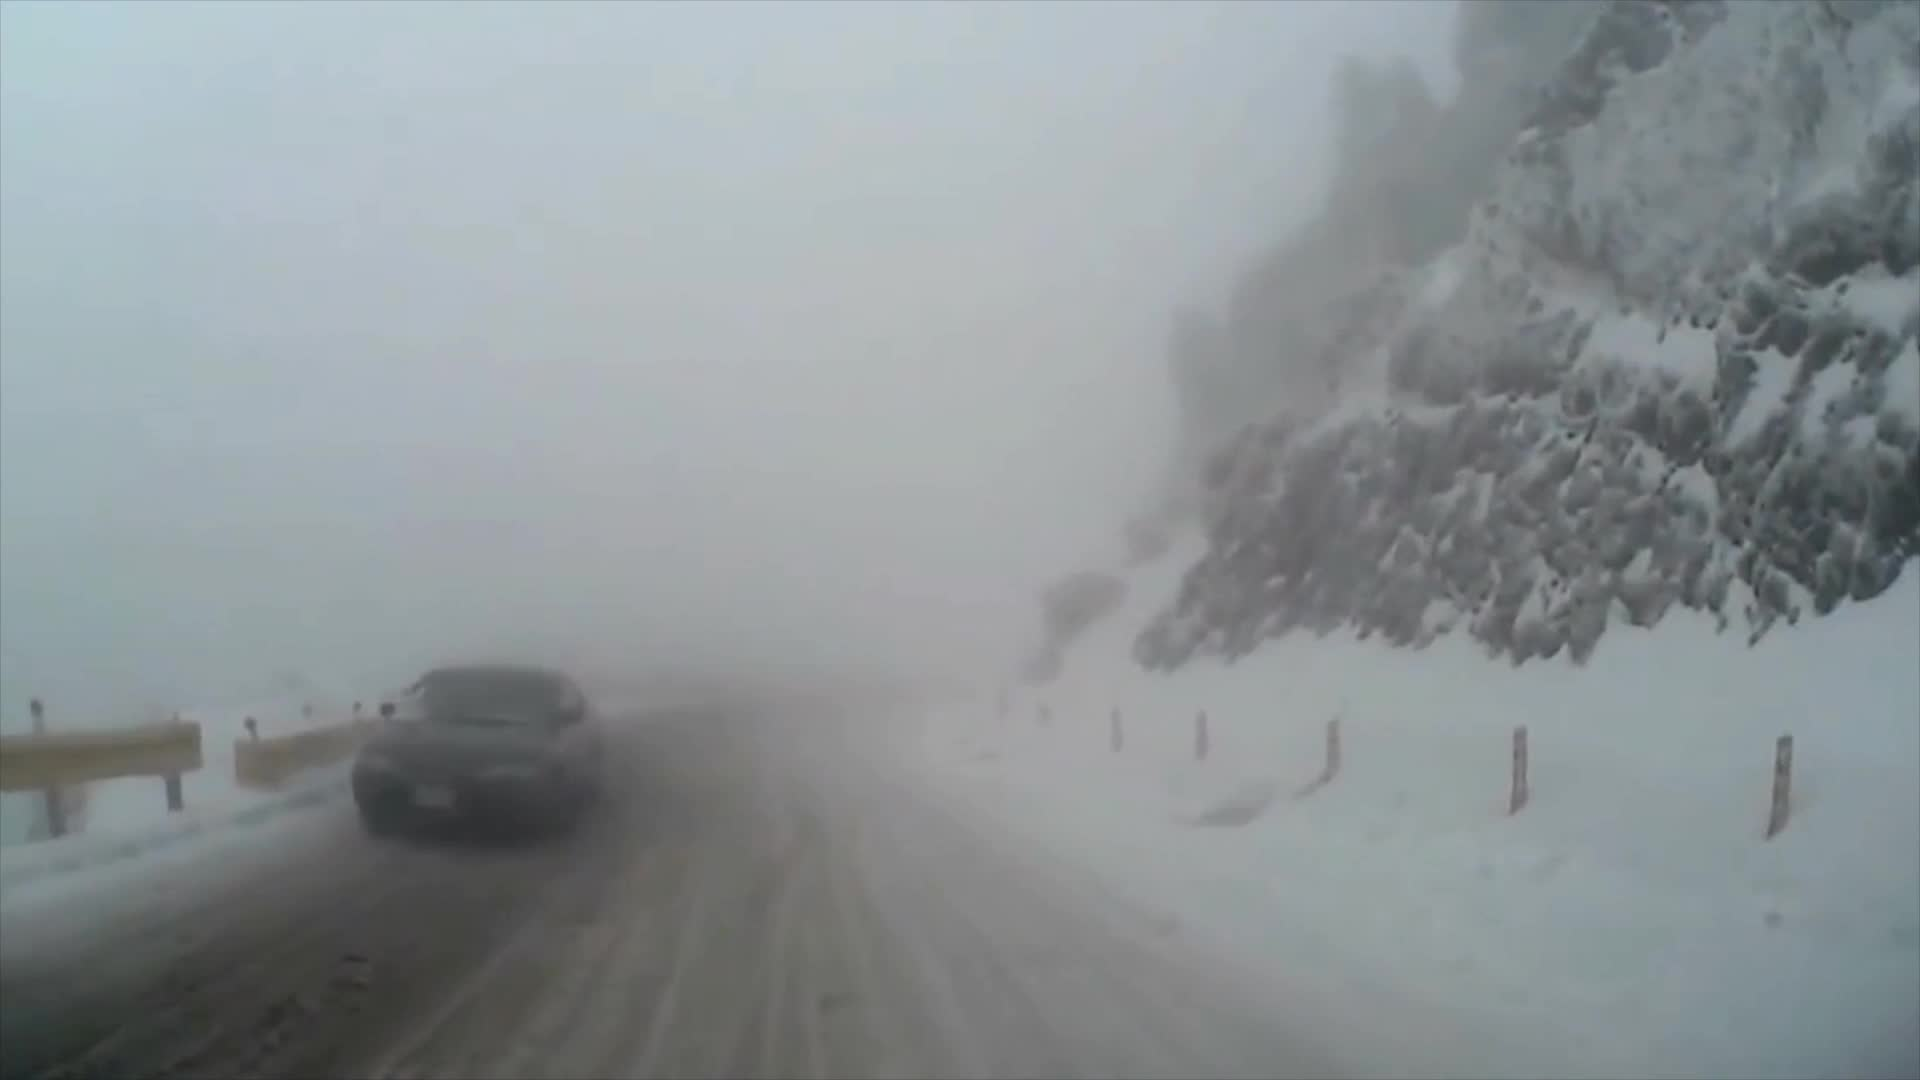vehicle: (347, 665, 605, 847)
